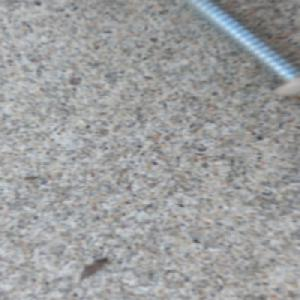Screw: (181, 0, 300, 99)
